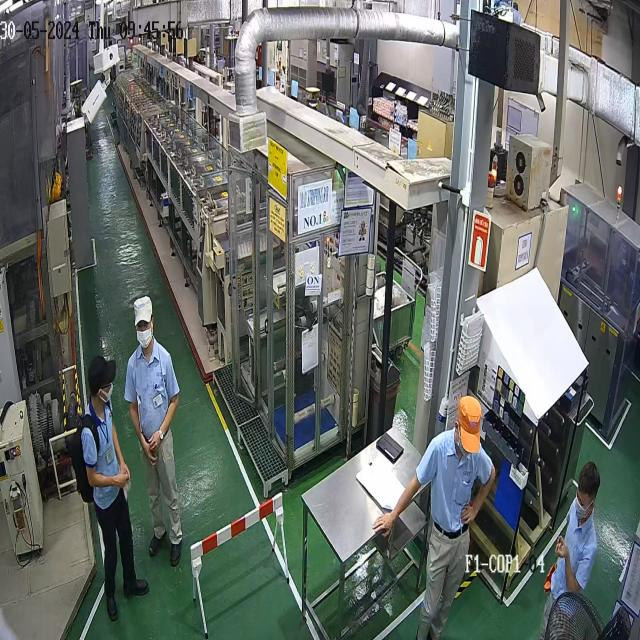Person: (372, 395, 496, 639), (81, 355, 149, 622), (124, 295, 183, 567), (540, 460, 600, 640)
